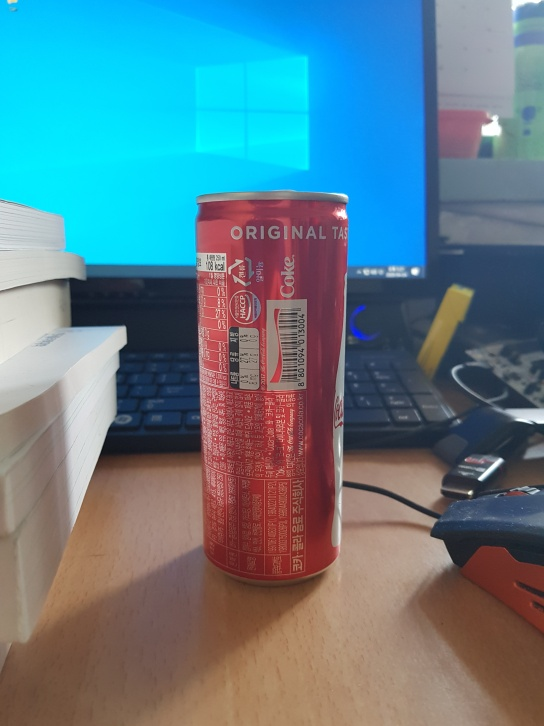Can: (192, 186, 350, 590)
